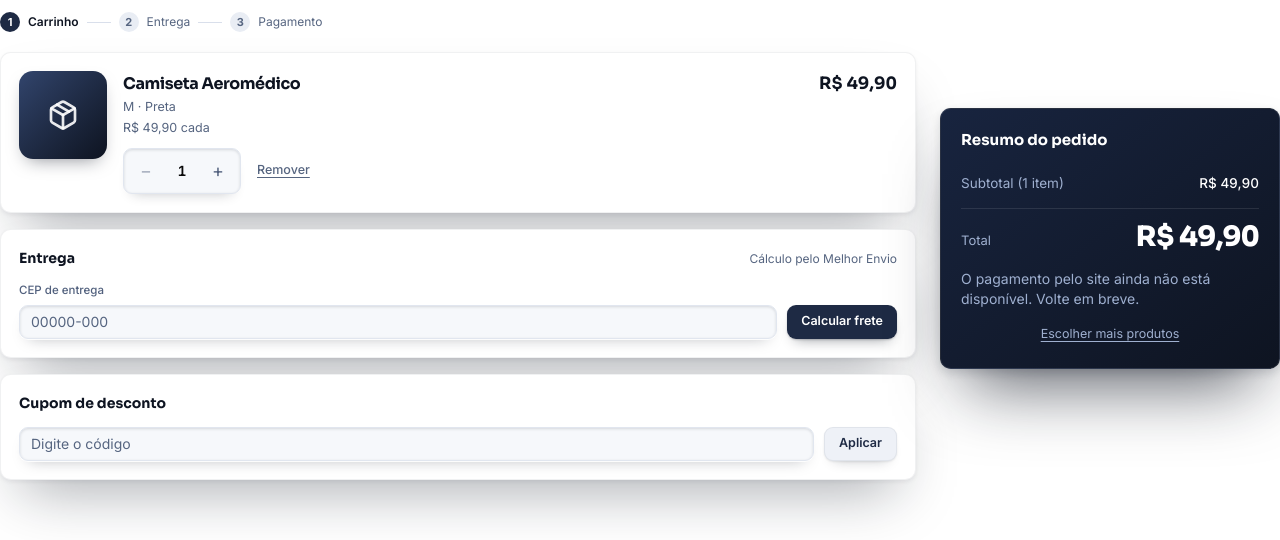
CartView › Remover tira a linha e volta ao estado vazio
The image size is (1280, 540).
Expected: the link "Camiseta Aeromédico" is shown, left=123, top=73, right=300, bottom=94
Click the button with aria-label "Remover Camiseta Aeromédico, M, Preta": (283, 170) left=253, top=148, right=314, bottom=192
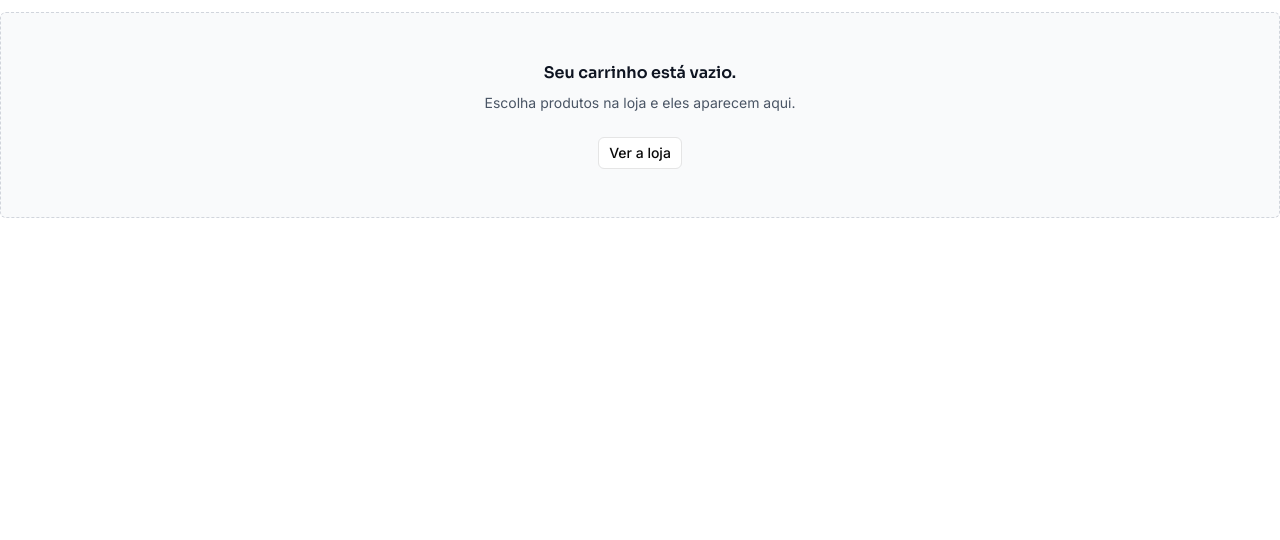
Result: the text "Seu carrinho está vazio." is shown at left=544, top=62, right=736, bottom=83
